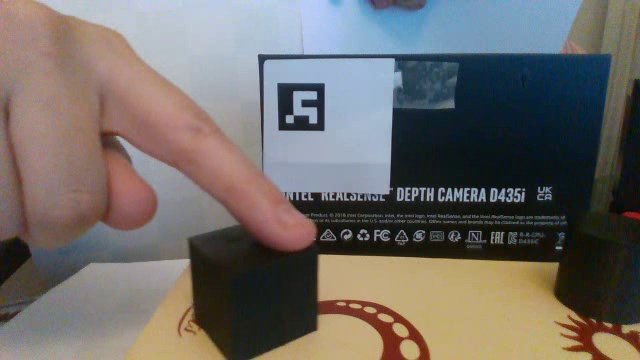cube: (176, 210, 331, 359)
cylindre: (549, 205, 640, 338)
